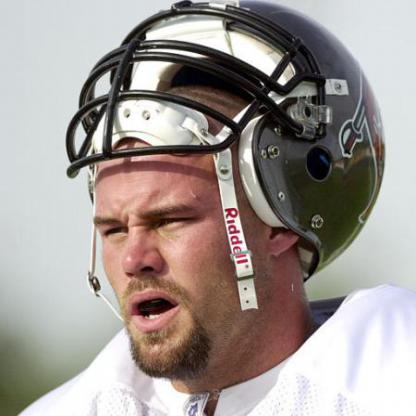face: (82, 102, 270, 388)
